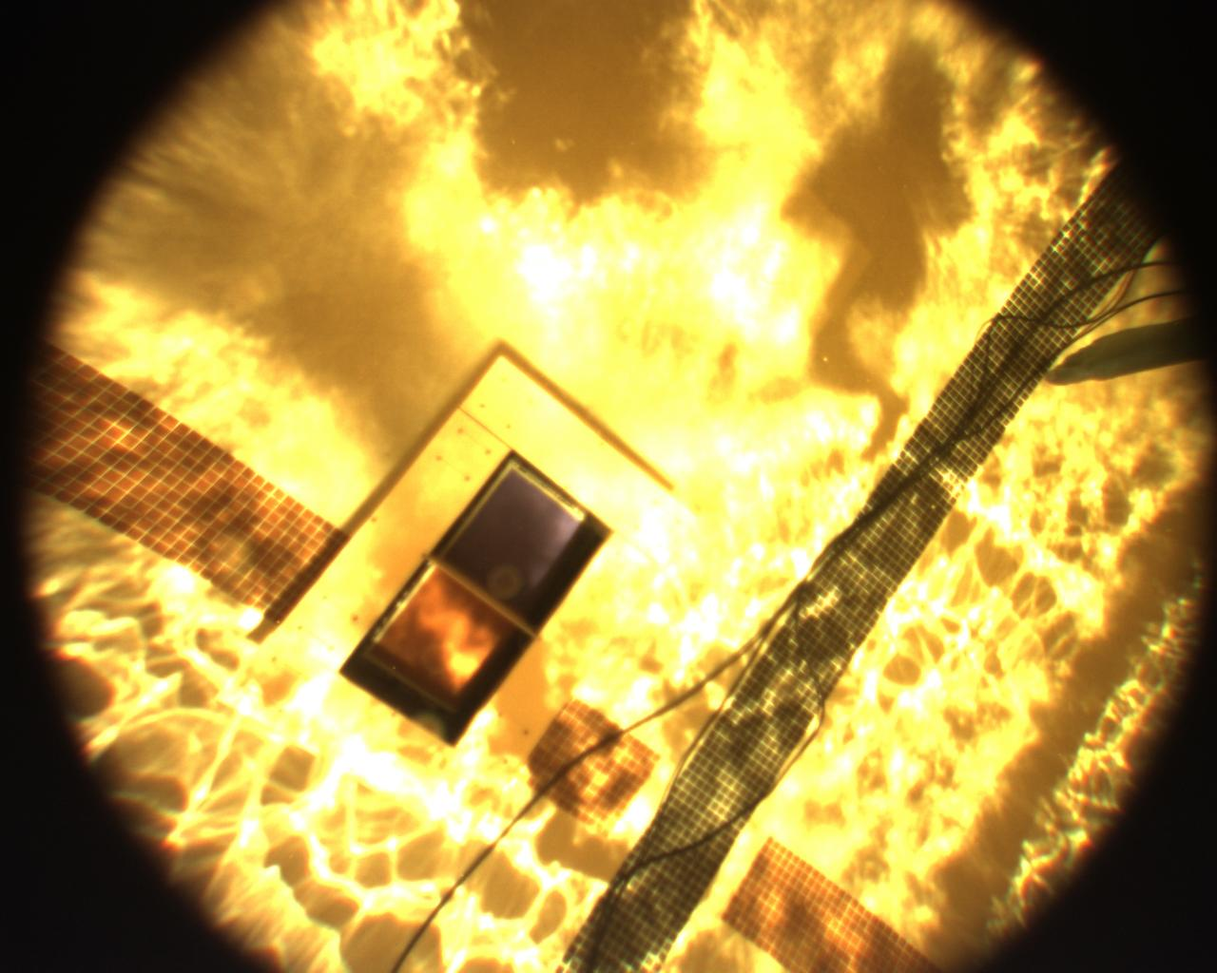dropper-box-top: (236, 342, 716, 841)
